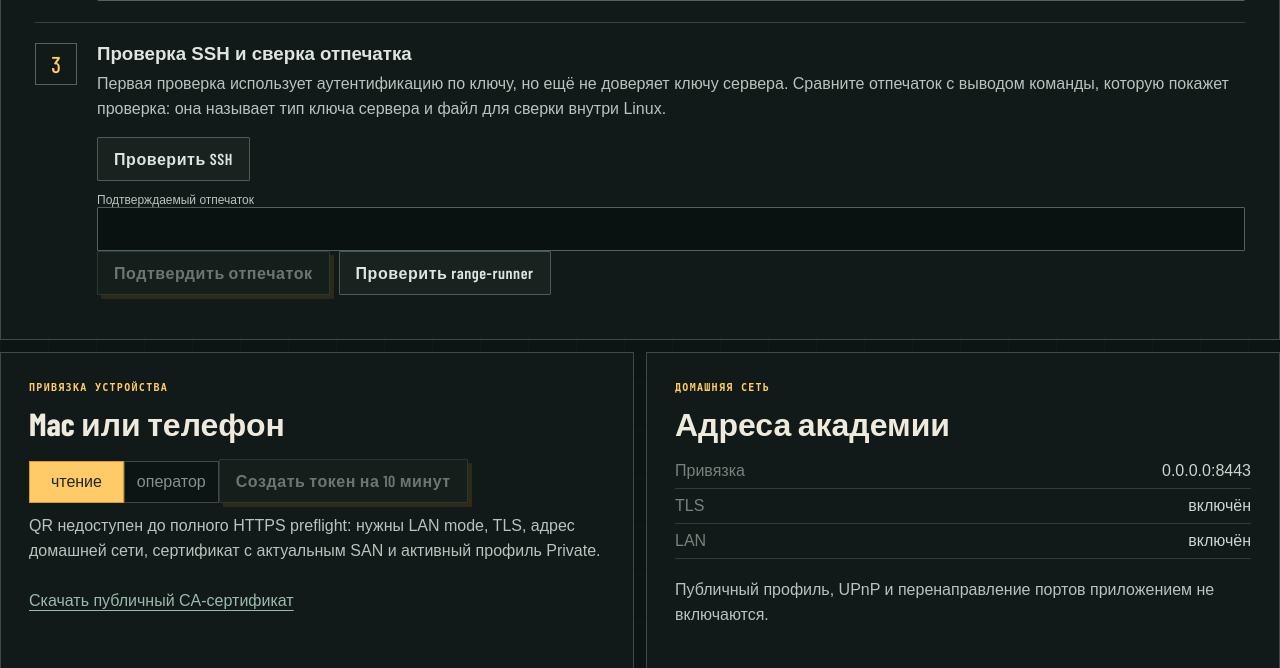
Test: SettingsPage range-runner check › shows the failure next to the button, not only at the top of the page
(page scrolled)
Click the button "Проверить range-runner".
click(445, 273)  # box x1=338 y1=251 x2=551 y2=295
(page scrolled)
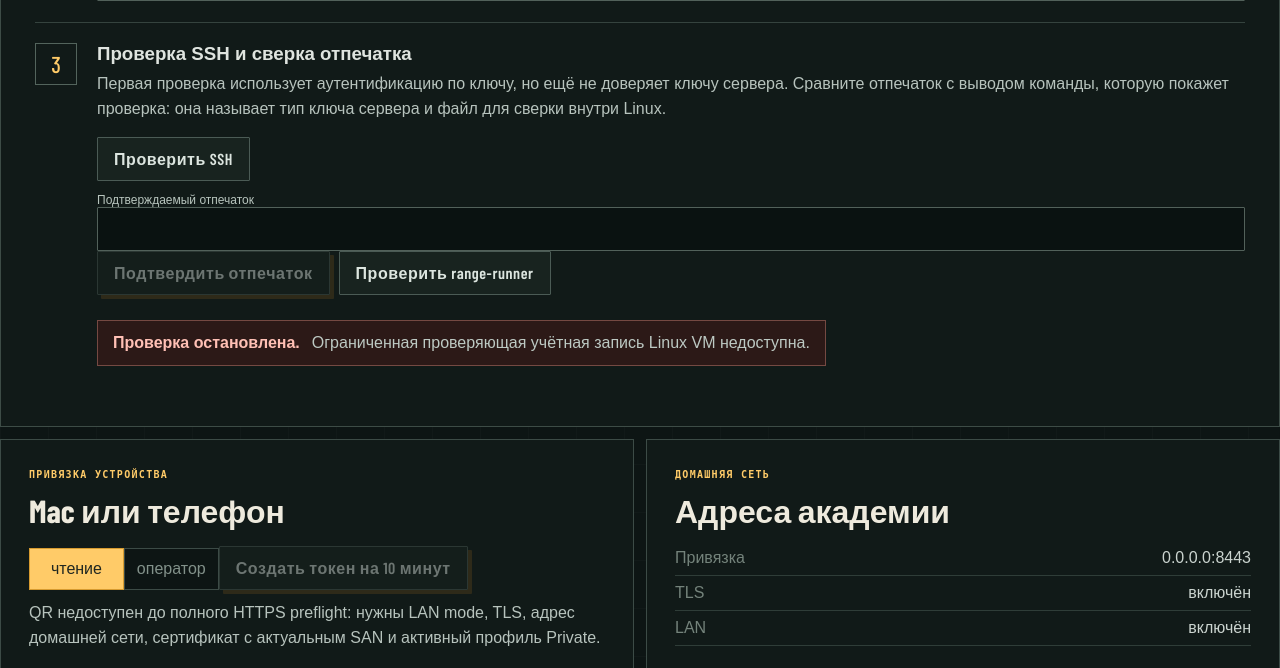
Expected: the text "Ограниченная проверяющая учётная запись Linux VM недоступна." is shown, x1=312 y1=334 x2=810 y2=352
